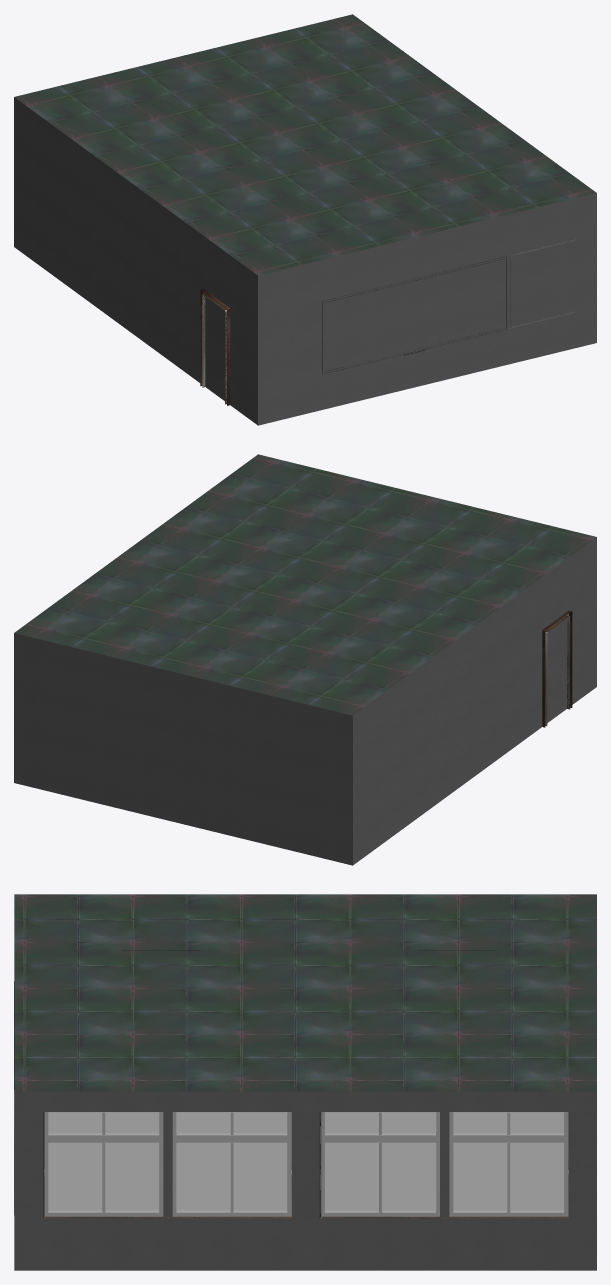
The model's file is Classroom.fbx.
3 views of the same model, one above another, from view 1: azimuth 30°, elevation 25°; view 2: azimuth 150°, elevation 25°; view 3: azimuth 270°, elevation 25° (orthographic). The views are drawn at different scales.
Visible parts, largest first — view 1: wall, ceilling, Door.001|Door_L_door.blend|Dupli|, Collection|board_L_board.blend|Dupli|; view 2: wall, ceilling, Door.001|Door_L_door.blend|Dupli|; view 3: ceilling, wall, Window.003|Glass_L_Window.blend|Dupli|2, Window.002|Glass_L_Window.blend|Dupli|2, Window.003|Window_L_Window.blend|Dupli|1, Window.002|Window_L_Window.blend|Dupli|1, wall.002, wall.001, Window.002|Wall_L_Window.blend|Dupli|, Window.003|Wall_L_Window.blend|Dupli|, Window.002|WindowWoodPlate_L_Window.blend|Dupli|3, Window.003|WindowWoodPlate_L_Window.blend|Dupli|3.
Part boxes in pixels (x1,y1,x2,y2): wall: (14, 97, 596, 425); ceilling: (14, 14, 596, 275); Door.001|Door_L_door.blend|Dupli|: (200, 288, 230, 405); Collection|board_L_board.blend|Dupli|: (322, 239, 575, 373); wall: (14, 537, 596, 865); ceilling: (14, 454, 596, 715); Door.001|Door_L_door.blend|Dupli|: (542, 610, 572, 727); ceilling: (14, 894, 596, 1091); wall: (14, 1091, 596, 1270); Window.003|Glass_L_Window.blend|Dupli|2: (48, 1112, 287, 1210); Window.002|Glass_L_Window.blend|Dupli|2: (325, 1112, 564, 1210); Window.003|Window_L_Window.blend|Dupli|1: (44, 1112, 291, 1216); Window.002|Window_L_Window.blend|Dupli|1: (321, 1112, 568, 1216); wall.002: (14, 1112, 596, 1218); wall.001: (291, 1112, 320, 1218); Window.002|Wall_L_Window.blend|Dupli|: (440, 1112, 449, 1216); Window.003|Wall_L_Window.blend|Dupli|: (163, 1112, 172, 1216); Window.002|WindowWoodPlate_L_Window.blend|Dupli|3: (321, 1216, 568, 1218); Window.003|WindowWoodPlate_L_Window.blend|Dupli|3: (44, 1216, 291, 1218).
Size of the model in its own units: 811 by 342 by 1004.
